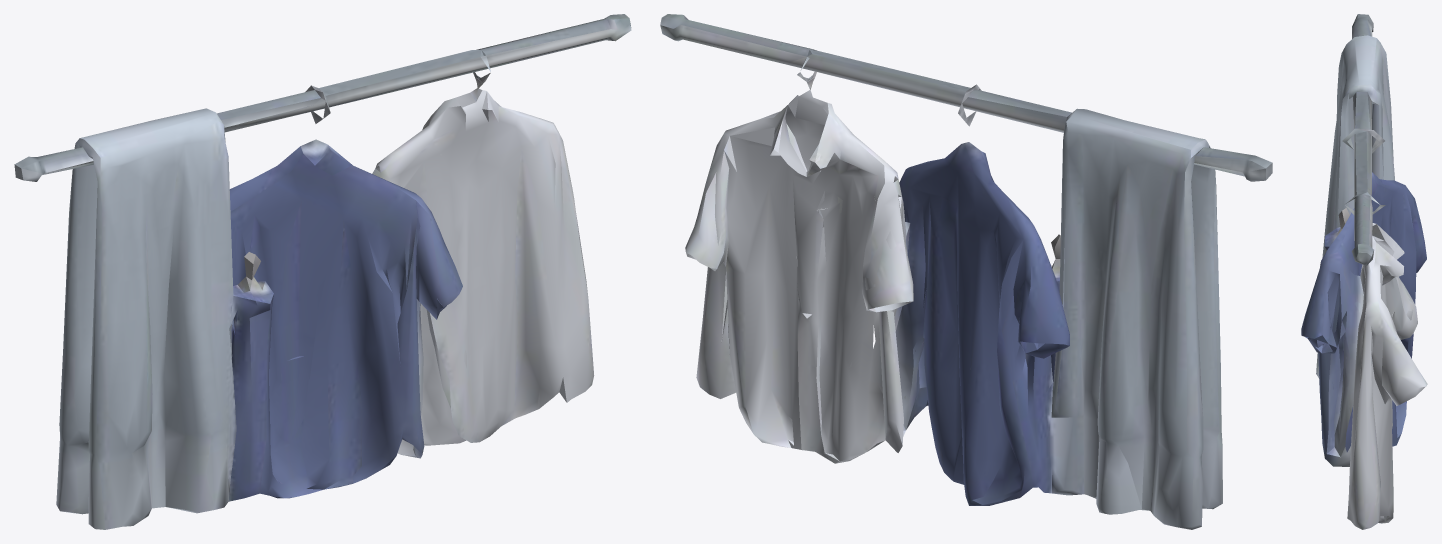
Rendered from laundry.glb.
The picture shows the model from 3 angles, left to right: view 1: azimuth 30°, elevation 25°; view 2: azimuth 150°, elevation 25°; view 3: azimuth 270°, elevation 25°; orthographic projection. The views are drawn at different scales.
Visible parts, largest first — view 1: laundry; view 2: laundry; view 3: laundry.
Boxes of the visible parts, <box> form: laundry: <box>14,14,631,529</box>; laundry: <box>660,14,1272,529</box>; laundry: <box>1301,14,1427,529</box>.
Size of the model in its own units: 1.5 by 0.95 by 0.3329.
Materials: 1 (1 with a texture image).
